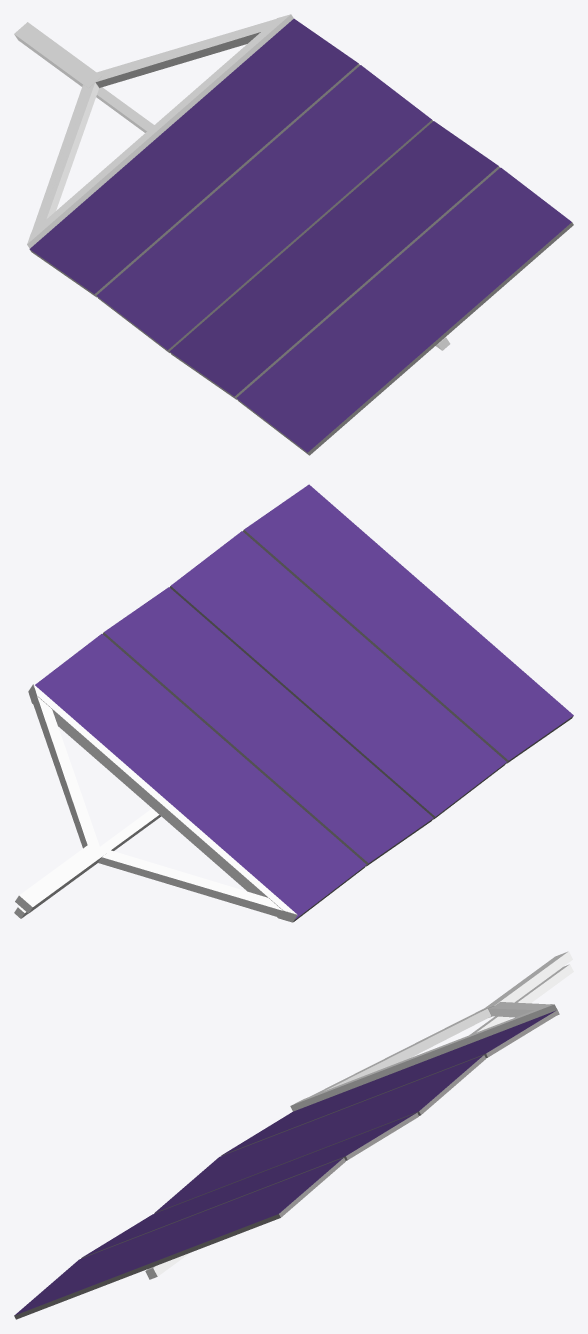
The model's file is leftWing.fbx.
3 renders of one model, top to bottom at view 1: azimuth 30°, elevation 25°; view 2: azimuth 150°, elevation 25°; view 3: azimuth 330°, elevation 25°, orthographic.
Visible parts, largest first — view 1: <LWODefault>.001; view 2: <LWODefault>.001; view 3: <LWODefault>.001.
Boxes of the visible parts, x1,y1,x2,y2 form: <LWODefault>.001: (14,14,573,455); <LWODefault>.001: (14,484,573,922); <LWODefault>.001: (14,951,573,1319).
Size of the model in its own units: 52.59 by 32.7 by 141.
